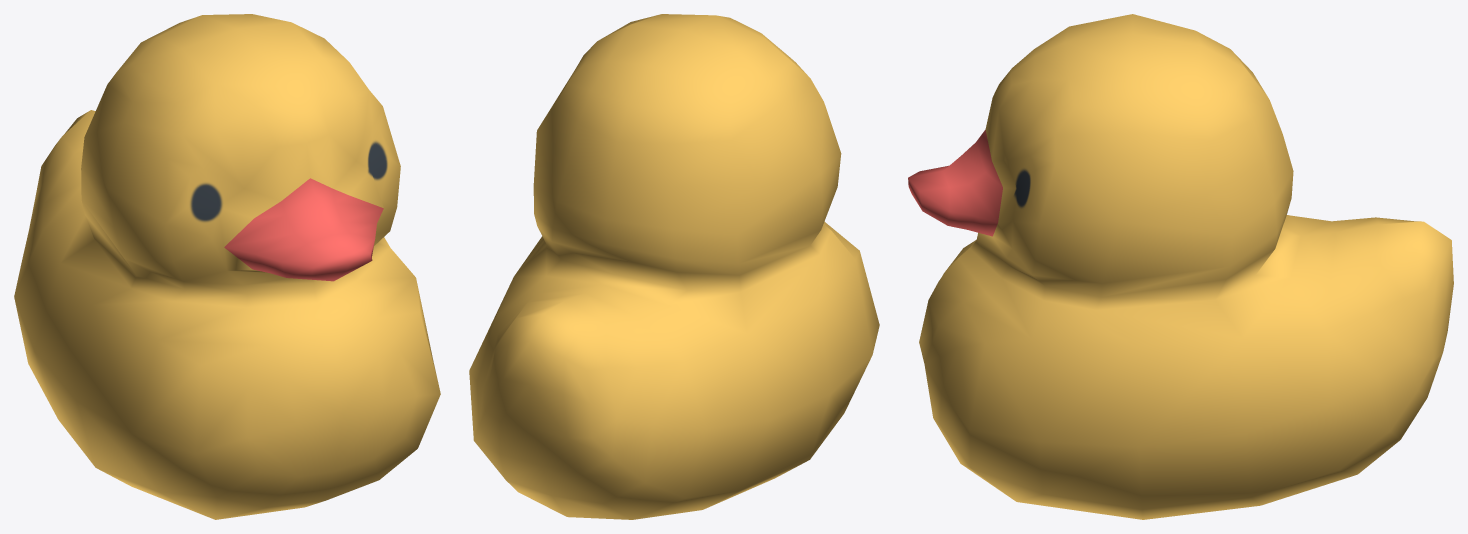
The model's file is Kumiankka.fbx.
3 views of the same model, side by side, from view 1: azimuth 30°, elevation 25°; view 2: azimuth 150°, elevation 25°; view 3: azimuth 270°, elevation 25° (orthographic). The views are drawn at different scales.
Visible parts, largest first — view 1: kumiankka; view 2: kumiankka; view 3: kumiankka.
Part boxes in pixels (left/top/right/bottom): kumiankka: left=14, top=14, right=440, bottom=519; kumiankka: left=469, top=14, right=879, bottom=519; kumiankka: left=908, top=14, right=1453, bottom=519.
Size of the model in its own units: 21.9 by 29.23 by 33.06.
